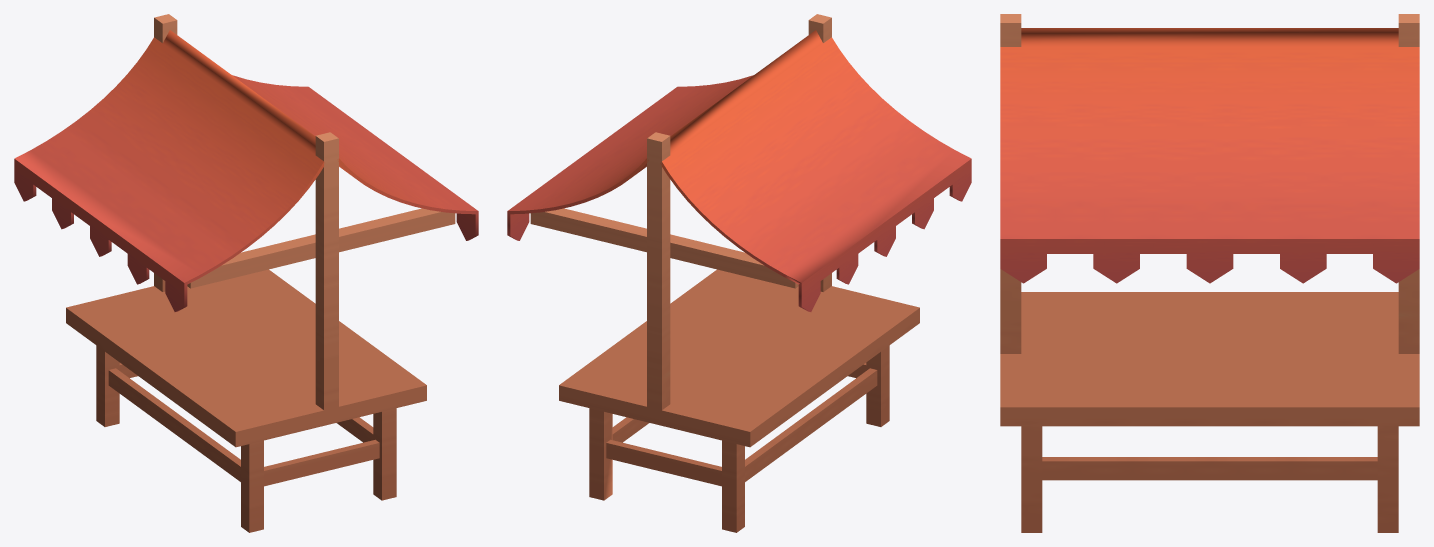
The model's file is stallRed.fbx.
3 renders of one model, left to right at view 1: azimuth 30°, elevation 25°; view 2: azimuth 150°, elevation 25°; view 3: azimuth 270°, elevation 25°, orthographic. The views are drawn at different scales.
Visible parts, largest first — view 1: stallRed; view 2: stallRed; view 3: stallRed.
Boxes of the visible parts, <box> form: stallRed: <box>14,14,478,532</box>; stallRed: <box>507,14,971,532</box>; stallRed: <box>1000,14,1419,532</box>.
Bounding box in the file's own units: 1 × 1 × 1.24.
